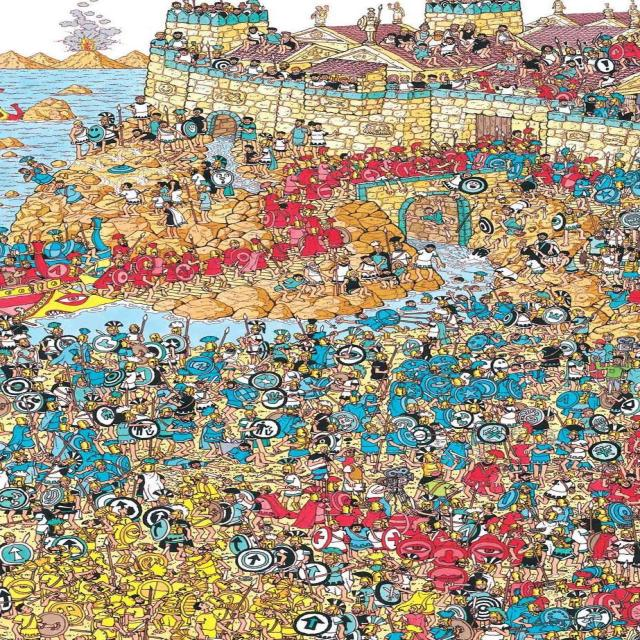waldo: (256, 522, 272, 534)
